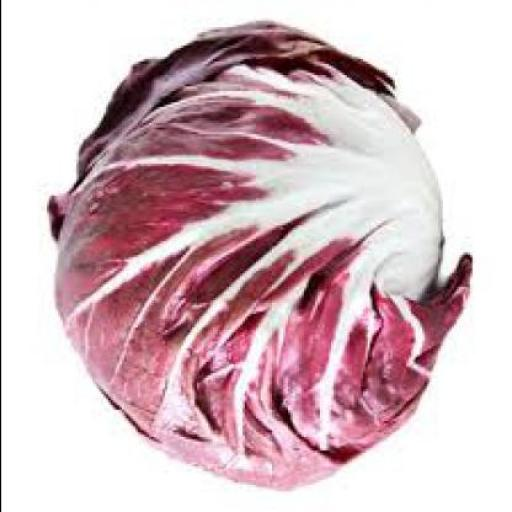biodegradable: (43, 16, 469, 491)
